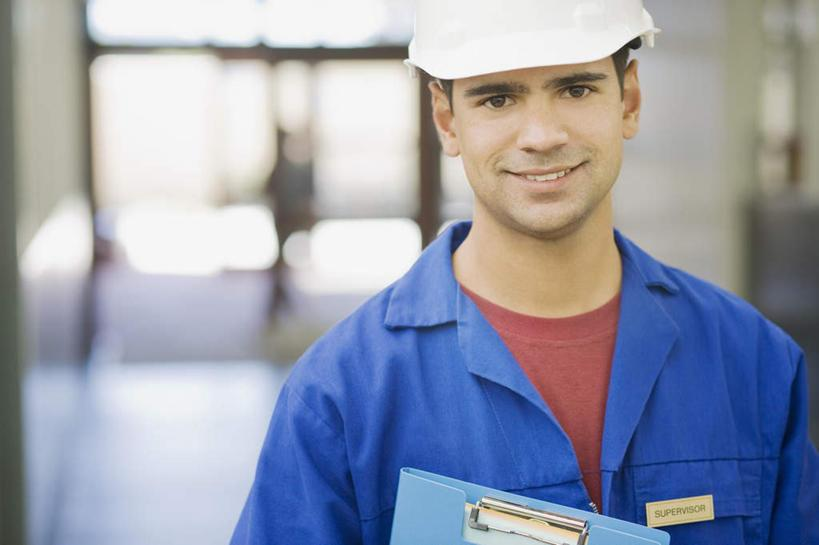helmet: (394, 1, 664, 84)
